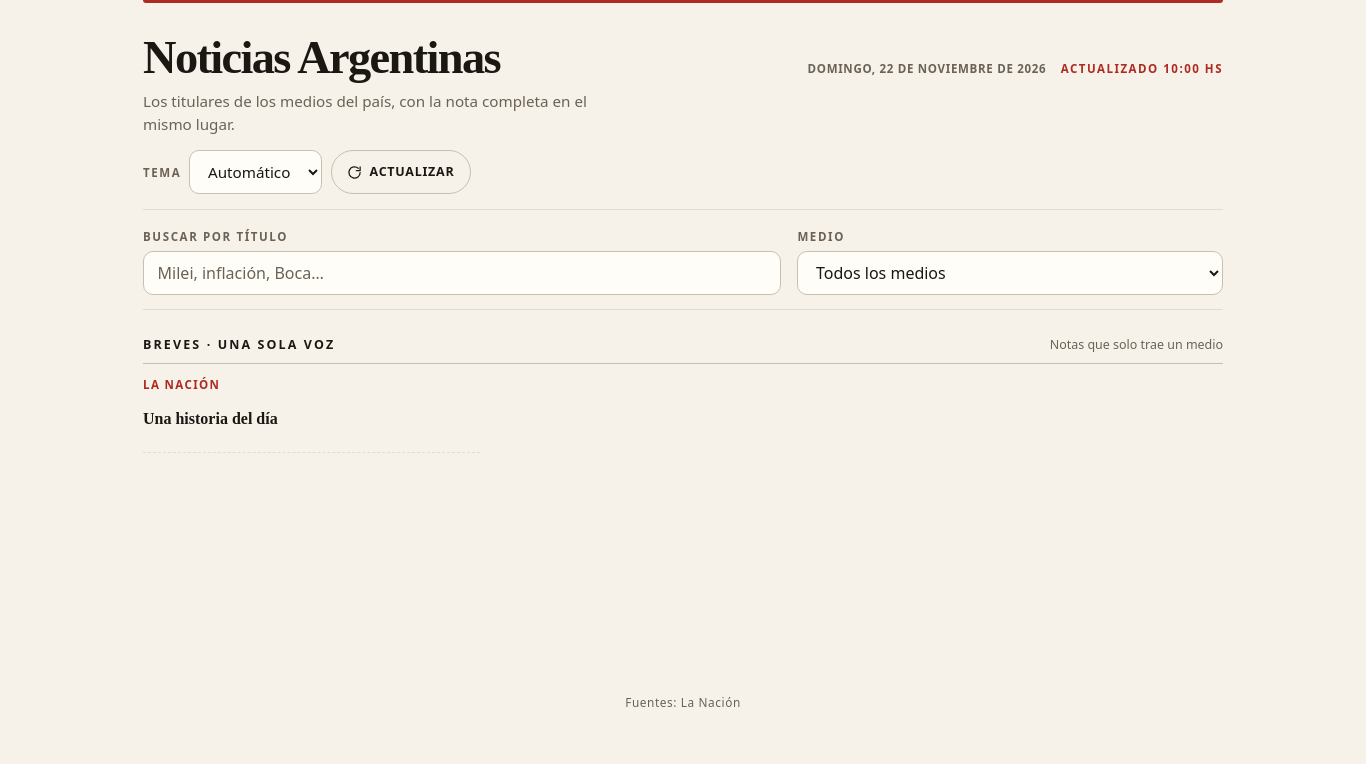
Test: App summary integration › shows an accessible error and a retry control when generation fails
This screenshot has width=1366, height=764.
Click the button "Una historia del día" at (210, 419), box x1=143 y1=397 x2=480 y2=441
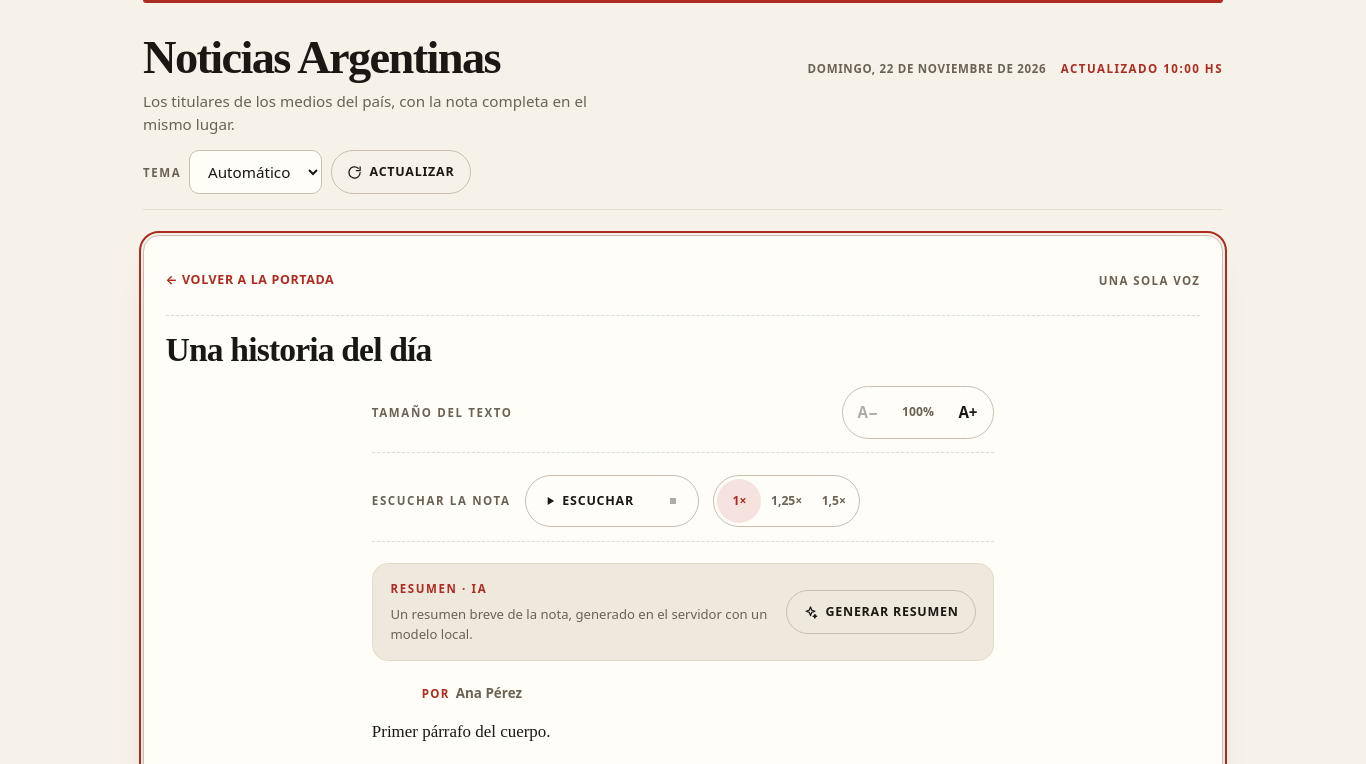
expect the text "Primer párrafo del cuerpo." is shown: met, box x1=372 y1=722 x2=550 y2=741
Click the button "Generar resumen" at (881, 612), box x1=786 y1=590 x2=976 y2=634
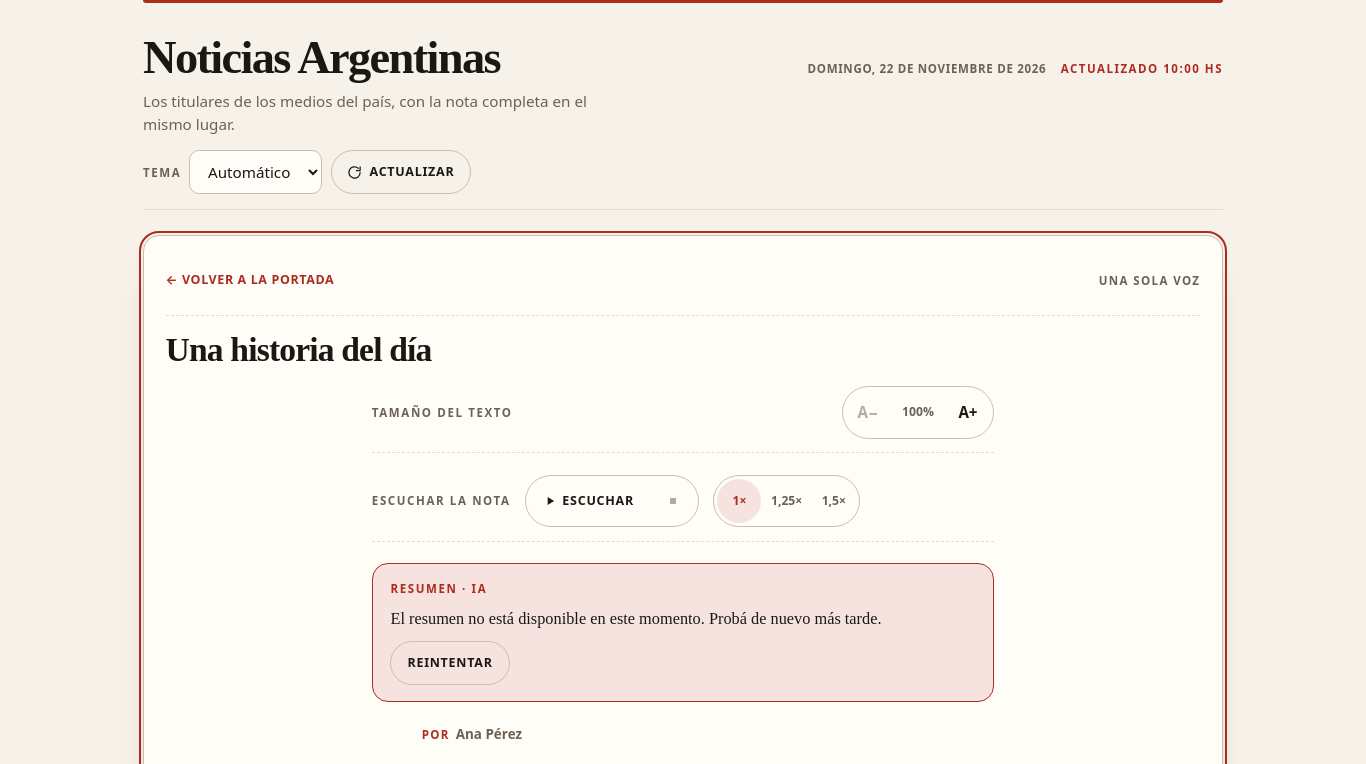
expect the text "El resumen no está disponible en este momento. Probá de nuevo más tarde." is shown: met, box x1=390 y1=609 x2=882 y2=628
expect the button "Reintentar" is shown: met, box x1=390 y1=641 x2=510 y2=685
